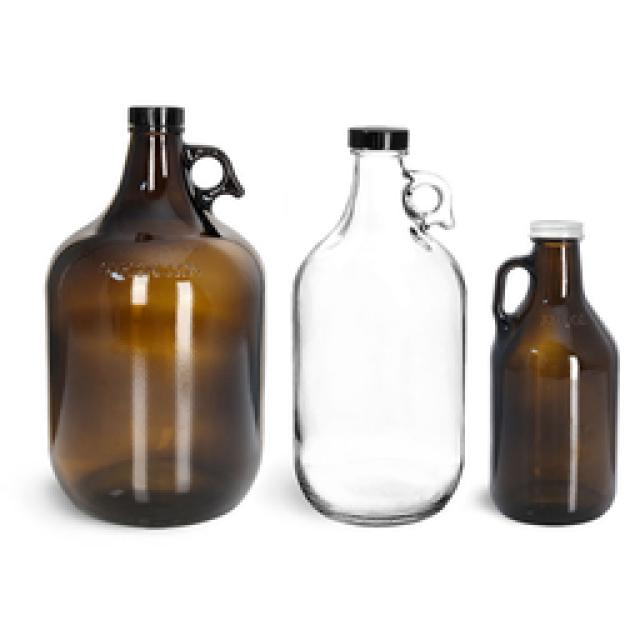glass_beverage_bottles: (40, 99, 263, 534), (293, 117, 467, 540), (485, 218, 618, 524)
